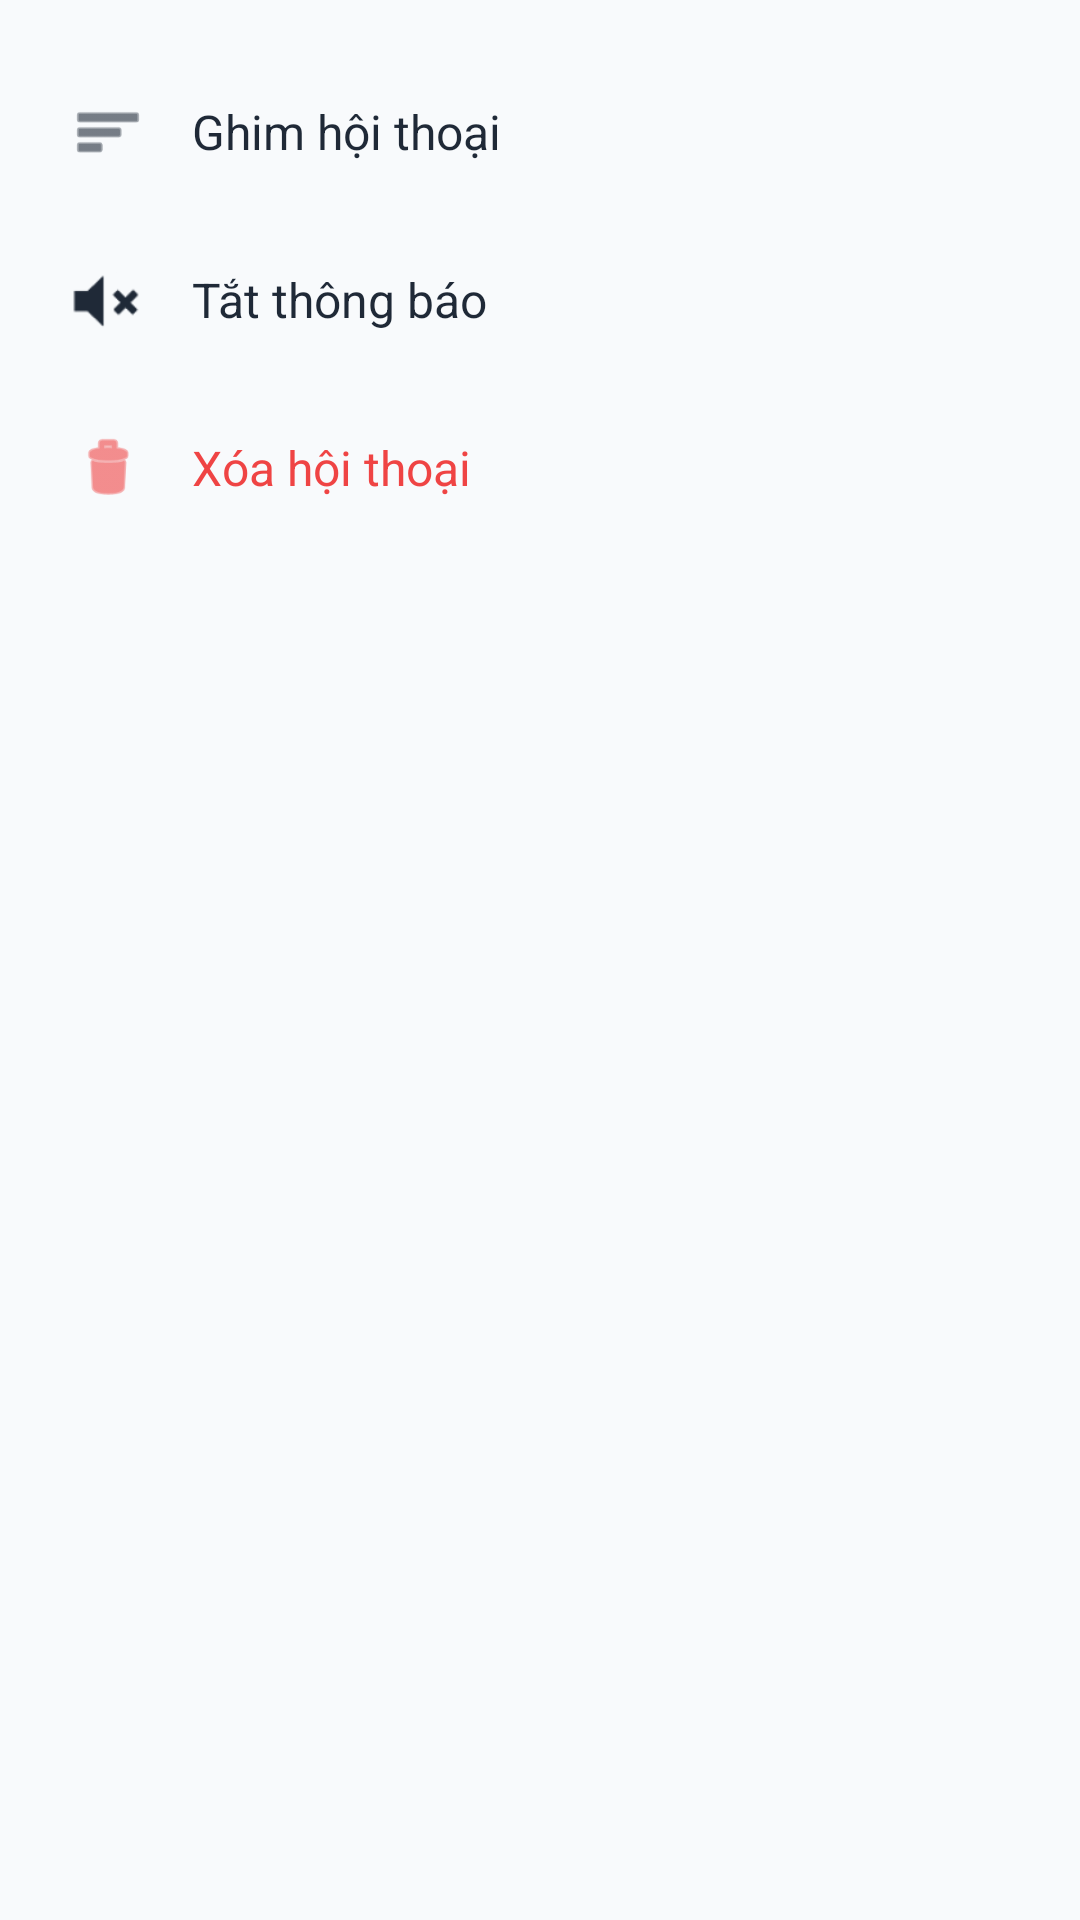

Where to tap for icons on this 1080px x 1920px app screen, as [x,y]:
delete: [108,467]
lock silent mode: [106,301]
sort by size: [108,132]
